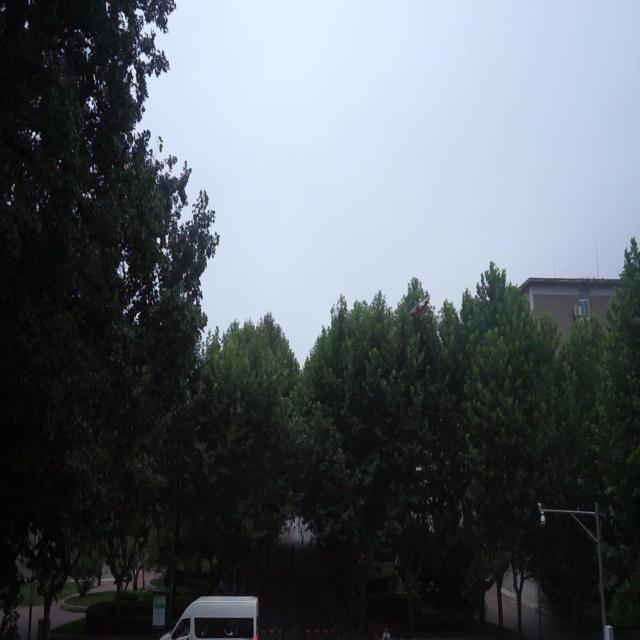drone: (408, 292, 433, 319)
